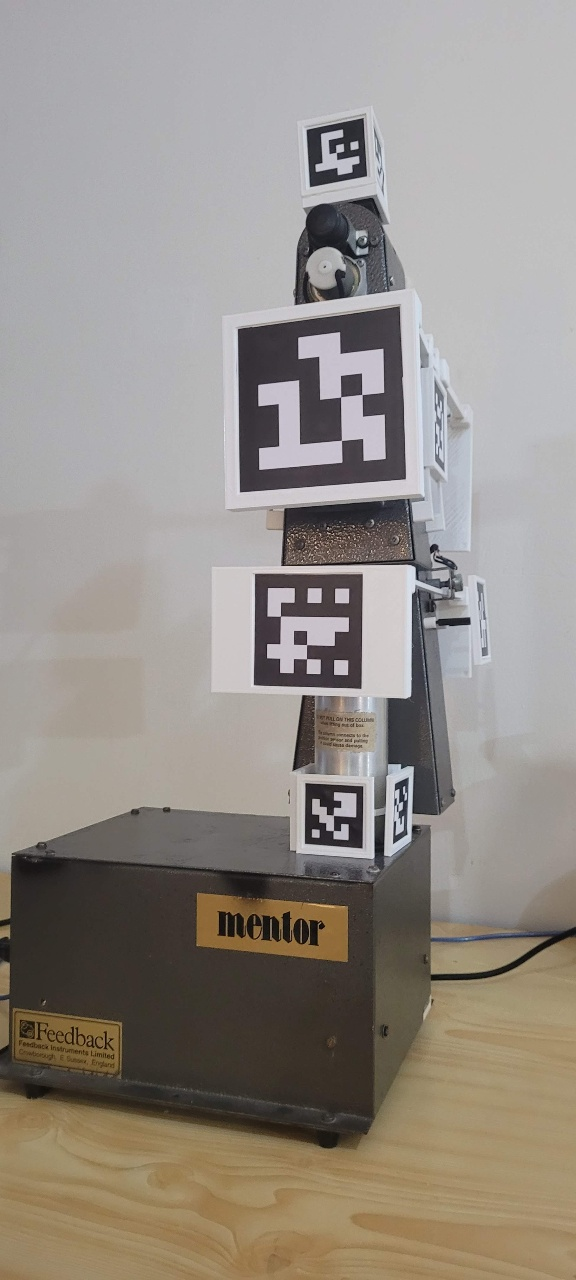Robot: (209, 101, 499, 862)
